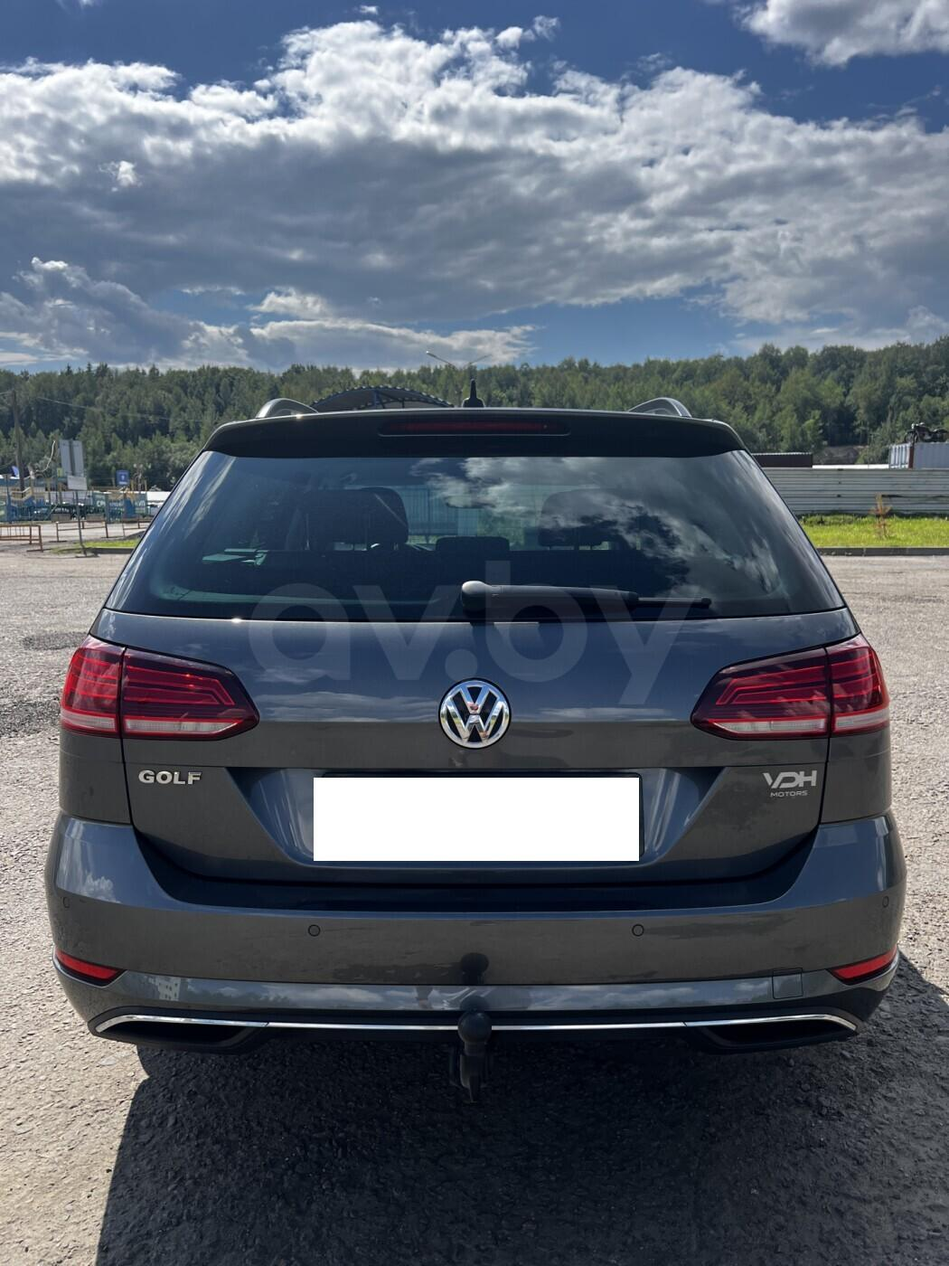Golf_2017-2021: (41, 398, 910, 1087)
